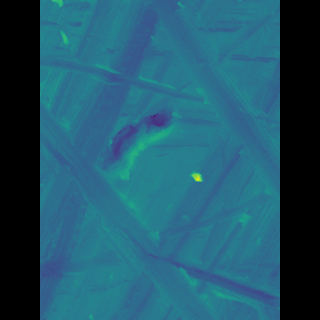Loch: (66, 98, 203, 320), (155, 0, 251, 195), (69, 54, 194, 106)
